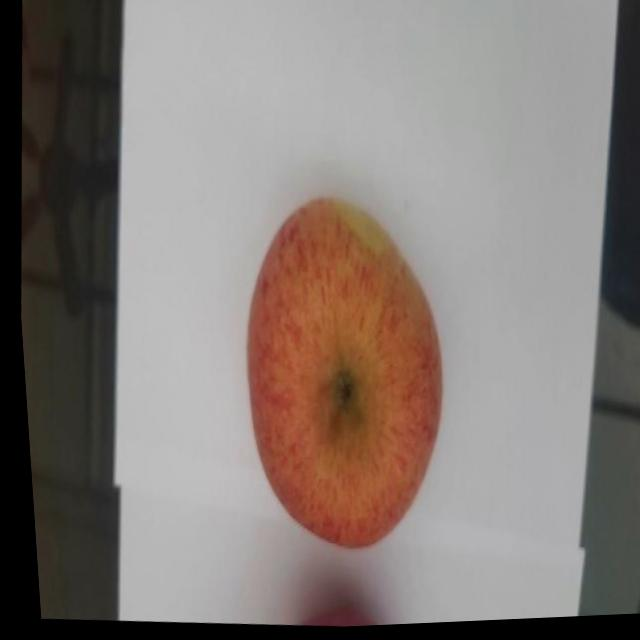Apple: (218, 191, 458, 563)
